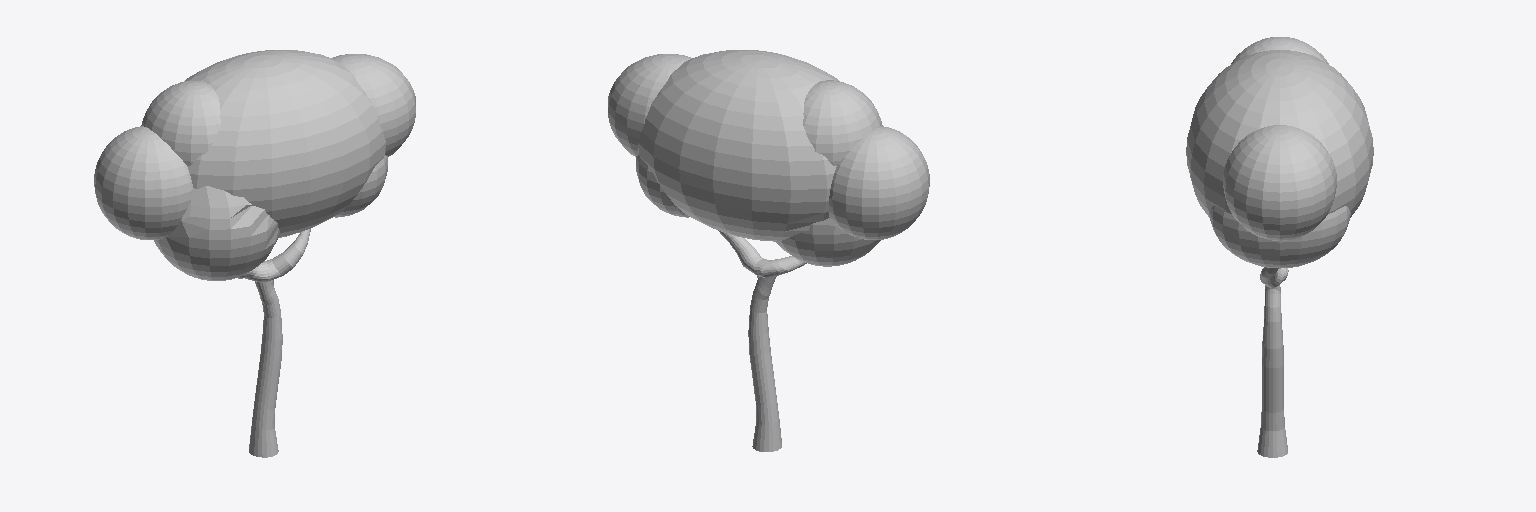
Rendered from Tree 1.obj.
3 views of the same model, side by side, from view 1: azimuth 30°, elevation 25°; view 2: azimuth 150°, elevation 25°; view 3: azimuth 270°, elevation 25° (orthographic).
Parts seen in each view (by area): view 1: Tree_Trunk Tree, Tree_Trunk, Tree_Trunk Branch; view 2: Tree_Trunk Tree, Tree_Trunk, Tree_Trunk Branch; view 3: Tree_Trunk Tree, Tree_Trunk.
Part boxes in pixels (x1,y1,x2,y2): Tree_Trunk Tree: (94, 50, 415, 280); Tree_Trunk: (249, 280, 282, 457); Tree_Trunk Branch: (238, 229, 310, 281); Tree_Trunk Tree: (608, 50, 929, 266); Tree_Trunk: (748, 276, 781, 451); Tree_Trunk Branch: (718, 230, 806, 277); Tree_Trunk Tree: (1186, 37, 1373, 268); Tree_Trunk: (1257, 285, 1287, 457).
Bounding box in the file's own units: 3.8 × 4.55 × 2.